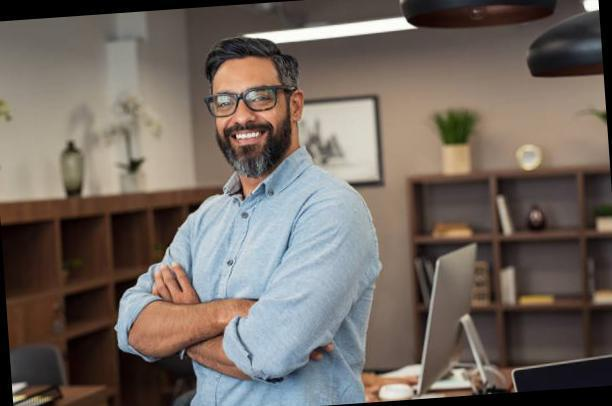Sober: (214, 68, 288, 162)
